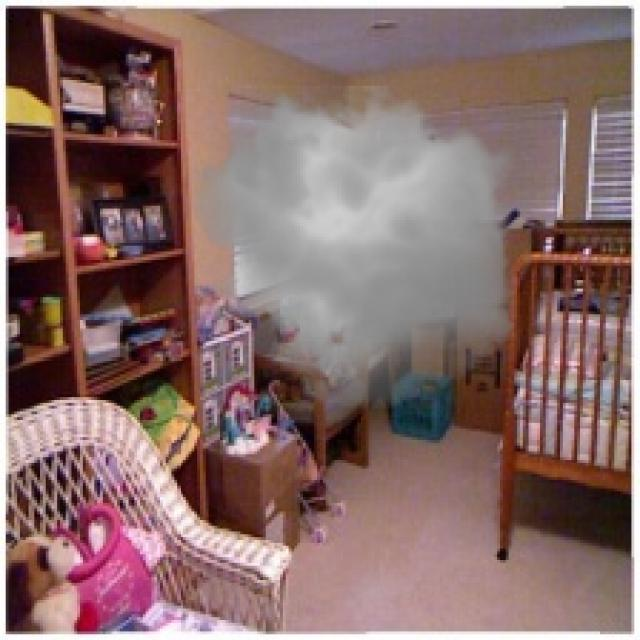Smoke: (179, 71, 532, 420)
